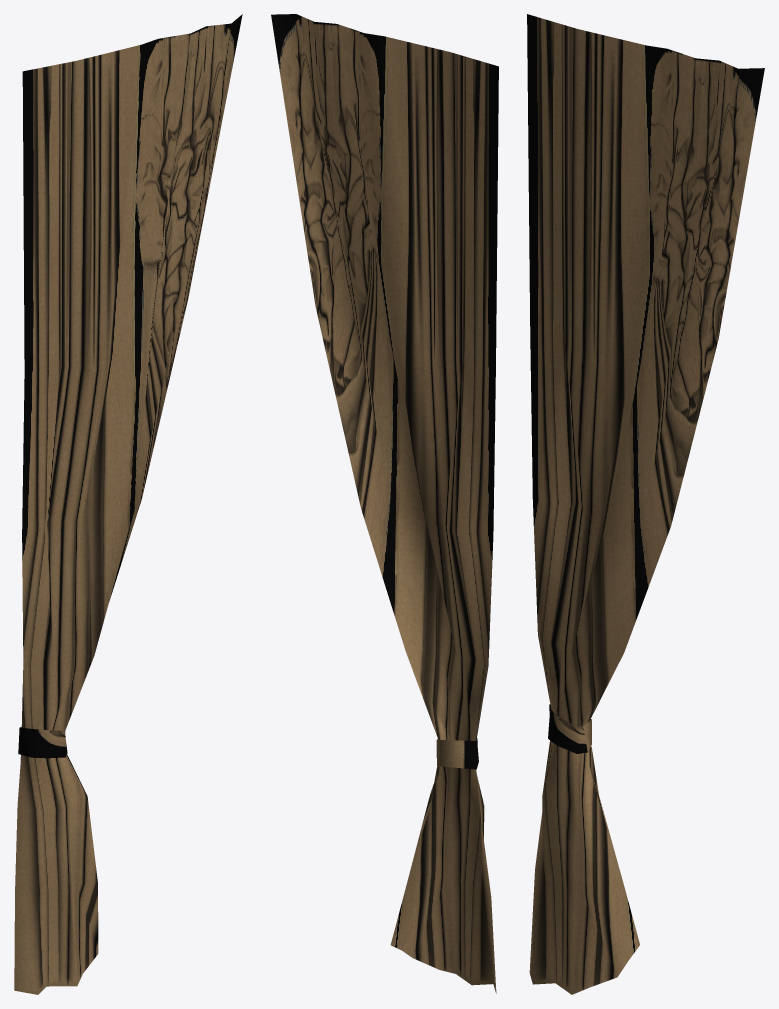
File: Curtain03.FBX
3 views of the same model, side by side, from view 1: azimuth 30°, elevation 25°; view 2: azimuth 150°, elevation 25°; view 3: azimuth 330°, elevation 25° (orthographic). The views are drawn at different scales.
Visible parts, largest first — view 1: Curtain01; view 2: Curtain01; view 3: Curtain01.
Part boxes in pixels (x1=…): Curtain01: x1=14, y1=14, x2=242, y2=994; Curtain01: x1=271, y1=14, x2=498, y2=993; Curtain01: x1=527, y1=14, x2=764, y2=994.
Bounding box in the file's own units: 156 × 606 × 32.26.
